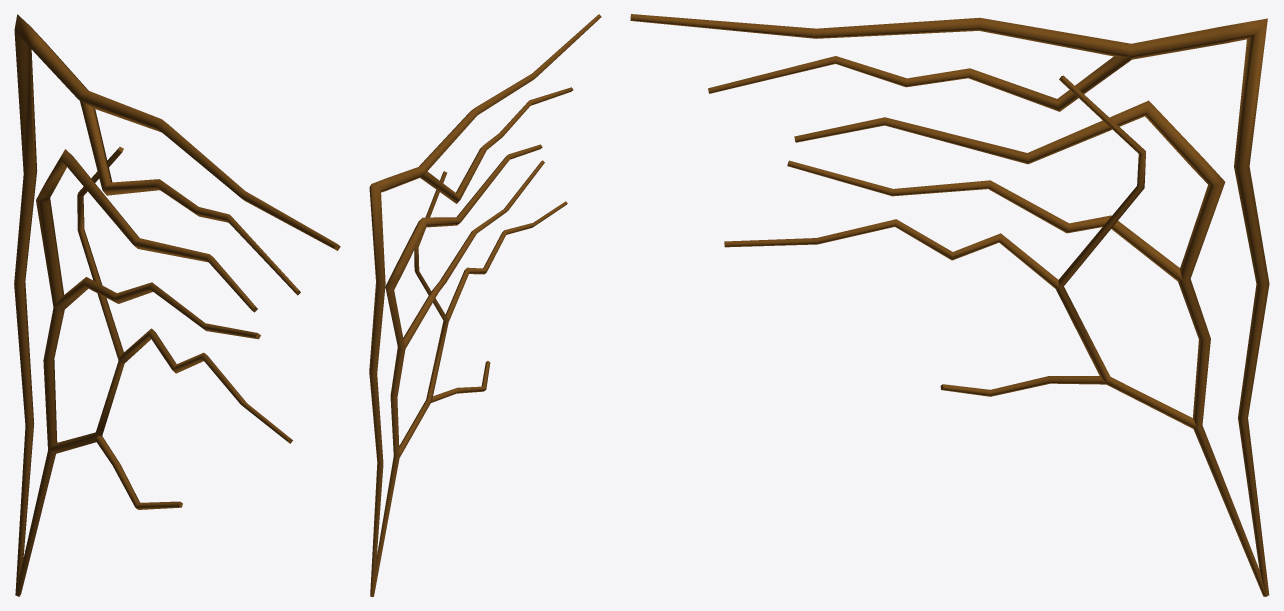
The model's file is Branche_coin.FBX.
3 renders of one model, left to right at view 1: azimuth 30°, elevation 25°; view 2: azimuth 150°, elevation 25°; view 3: azimuth 270°, elevation 25°, orthographic. The views are drawn at different scales.
Parts seen in each view (by area): view 1: Coin_branche; view 2: Coin_branche; view 3: Coin_branche.
Boxes of the visible parts, x1,y1,x2,y2 form: Coin_branche: [14, 14, 340, 596]; Coin_branche: [369, 14, 601, 596]; Coin_branche: [630, 14, 1269, 596].
Size of the model in its own units: 31.99 by 596 by 592.
